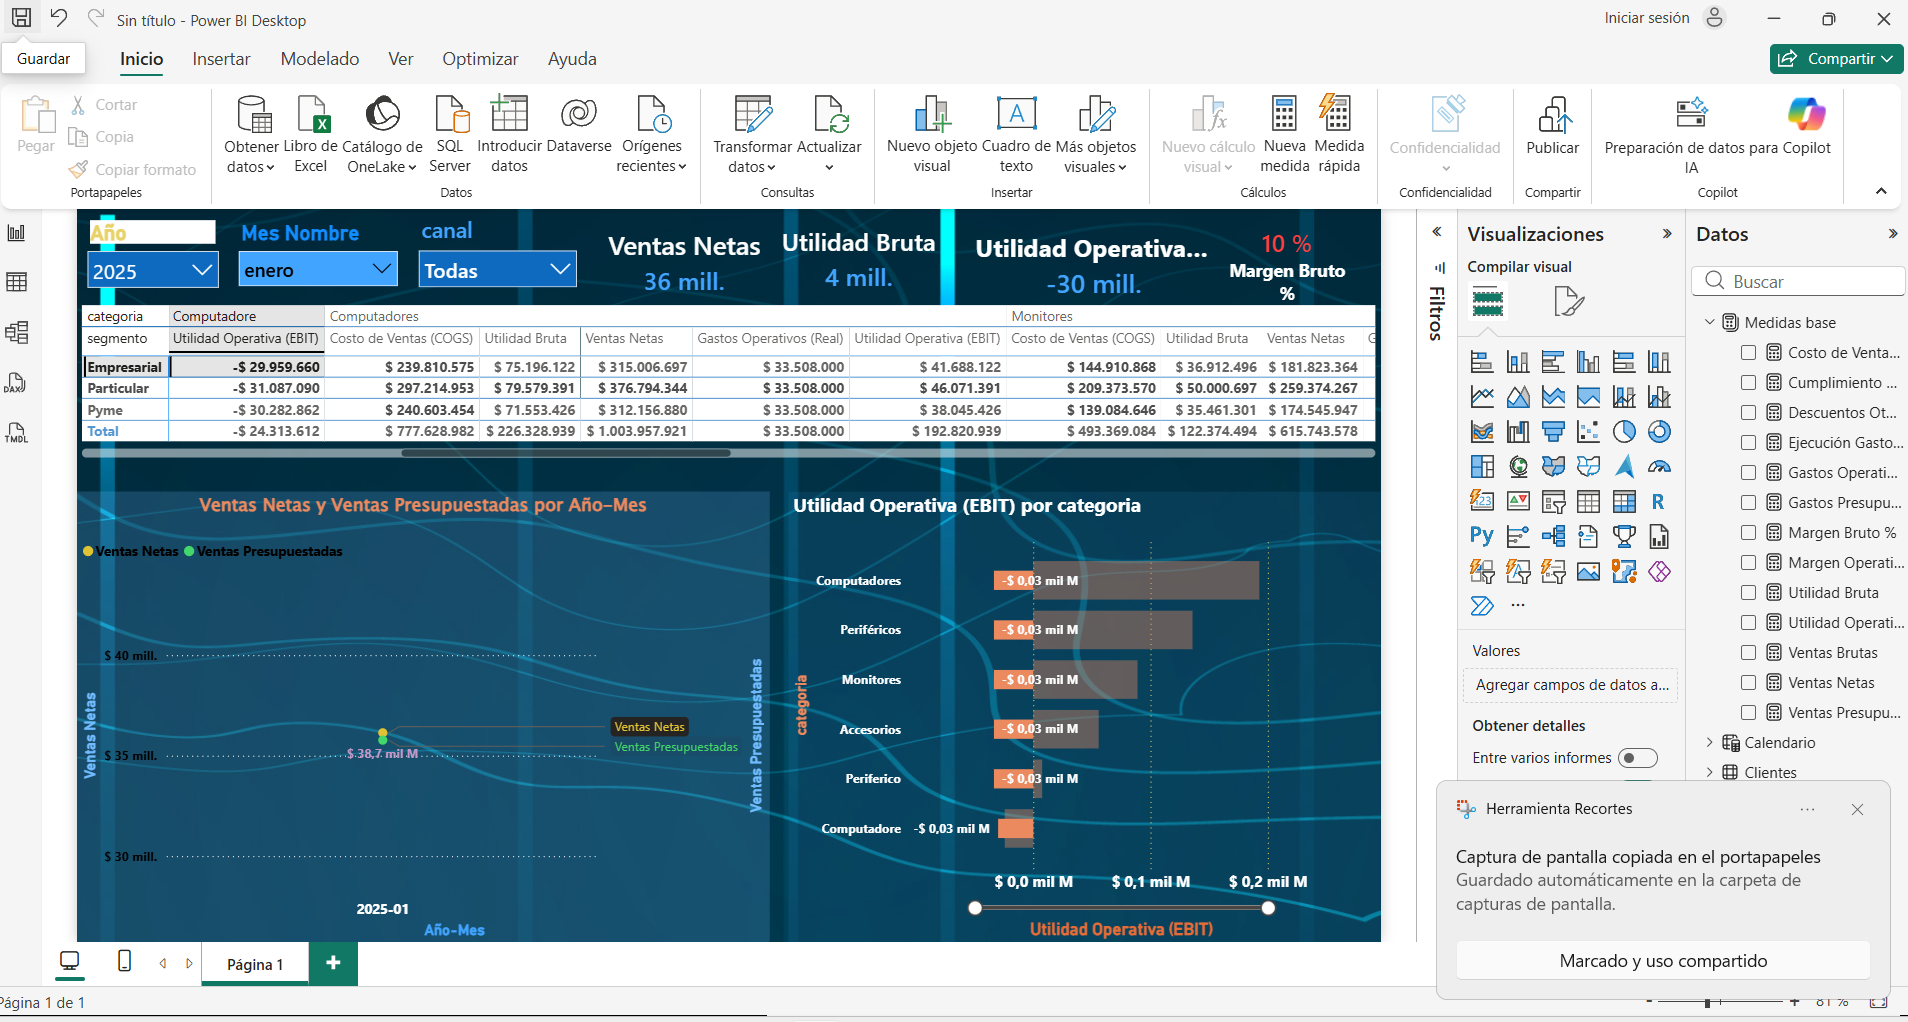

This screenshot's page, from the dashboard's own definition file:
{"tool":"powerbi","page":{"name":"Página 1","canvas":[1280,720],"ordinal":0},"visuals":[{"type":"slicer","fields":{"Values":["Calendario.Año"]},"box":[0,6.3,148.9,92.3],"z":0},{"type":"slicer","fields":{"Values":["Calendario.Mes Nombre"]},"box":[148.9,6.3,176.1,69.2],"z":1000},{"type":"slicer","fields":{"Values":["Ventas.canal"]},"box":[325.1,0,175.4,77],"z":2000},{"type":"cardVisual","fields":{"Data":["Medidas base.Ventas Netas"]},"box":[500.1,6.4,191,92.3],"z":3000},{"type":"cardVisual","fields":{"Data":["Medidas base.Utilidad Bruta"]},"box":[669.6,0,195.3,98.7],"z":4000},{"type":"cardVisual","fields":{"Data":["Medidas base.Utilidad Operativa (EBIT)"]},"box":[864.9,6.4,266.1,98.7],"z":5000},{"type":"cardVisual","fields":{"Data":["Medidas base.Margen Bruto %"]},"box":[1096.9,12.3,182.8,85.9],"z":6000},{"type":"lineChart","fields":{"Category":["Calendario.Año-Mes"],"Y":["Medidas base.Ventas Netas"],"Y2":["Medidas base.Ventas Presupuestadas"]},"box":[0,277.3,679.8,442.9],"z":8000},{"type":"clusteredBarChart","fields":{"Category":["Productos.categoria"],"Y":["Medidas base.Utilidad Operativa (EBIT)"]},"box":[698.2,277.3,581.6,442.9],"z":9000},{"type":"pivotTable","fields":{"Rows":["Clientes.segmento"],"Columns":["Productos.categoria"],"Values":["Medidas base.Costo de Ventas (COGS)","Medidas base.Utilidad Bruta","Medidas base.Ventas Netas","Medidas base.Gastos Operativos (Real)","Medidas base.Utilidad Operativa (EBIT)"]},"box":[0,89.6,1279.8,159.5],"z":10000}]}

Visuals, with their boxes on the page's 1280x720 design canvas (x1, y1, x2, y2). These are canvas units, not pixel positions in the 1908x1022 screenshot, which may show the page scaled, cropped or inside an application window:
slicer - Calendario.Año: bbox(0, 6, 149, 99)
slicer - Calendario.Mes Nombre: bbox(149, 6, 325, 76)
slicer - Ventas.canal: bbox(325, 0, 500, 77)
cardVisual - Medidas base.Ventas Netas: bbox(500, 6, 691, 99)
cardVisual - Medidas base.Utilidad Bruta: bbox(670, 0, 865, 99)
cardVisual - Medidas base.Utilidad Operativa (EBIT): bbox(865, 6, 1131, 105)
cardVisual - Medidas base.Margen Bruto %: bbox(1097, 12, 1280, 98)
lineChart - Calendario.Año-Mes x Medidas base.Ventas Netas: bbox(0, 277, 680, 720)
clusteredBarChart - Productos.categoria x Medidas base.Utilidad Operativa (EBIT): bbox(698, 277, 1280, 720)
pivotTable - Clientes.segmento x Productos.categoria: bbox(0, 90, 1280, 249)
